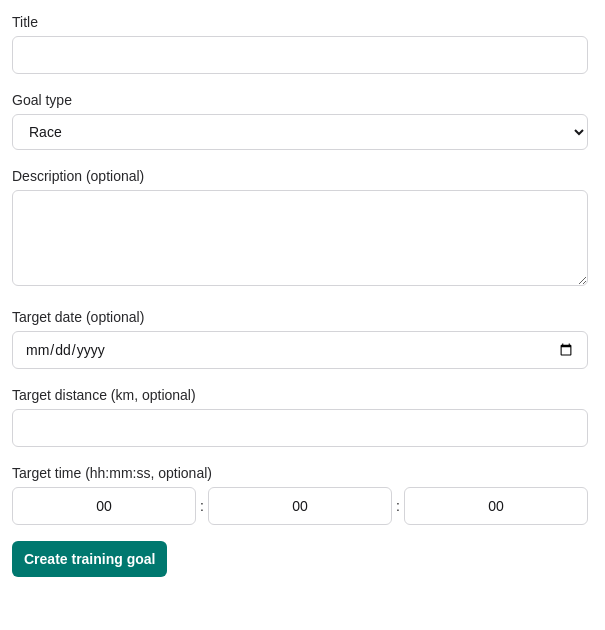
Test: preserves values on failure and allows retry
Type "  Marathon  " into the field labelled "Title". click: [300, 55]
box: [12,36,588,74]
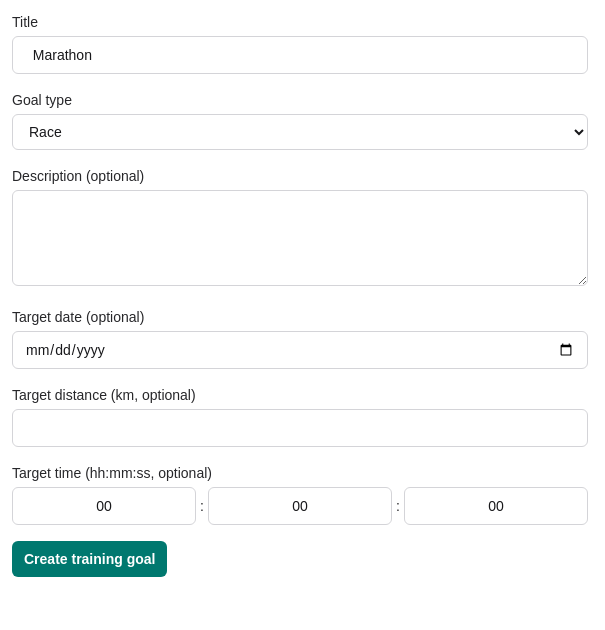
Click the button "Create training goal". click: [90, 559]
box: [12,541,168,577]
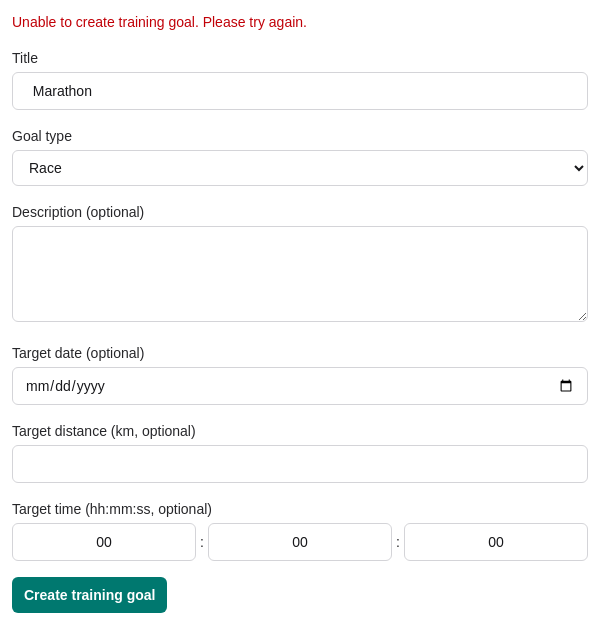
Expected: the message reads "Unable to create training goal. Please try again.", [12,14,307,30]
Click the button "Create training goal". click: [90, 595]
box: [12,577,168,613]
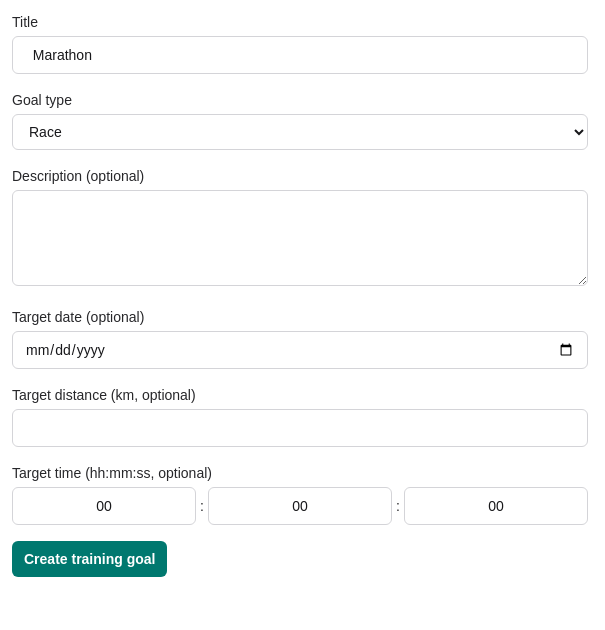
Expected: the message "Unable to create training goal. Please try again." is gone
